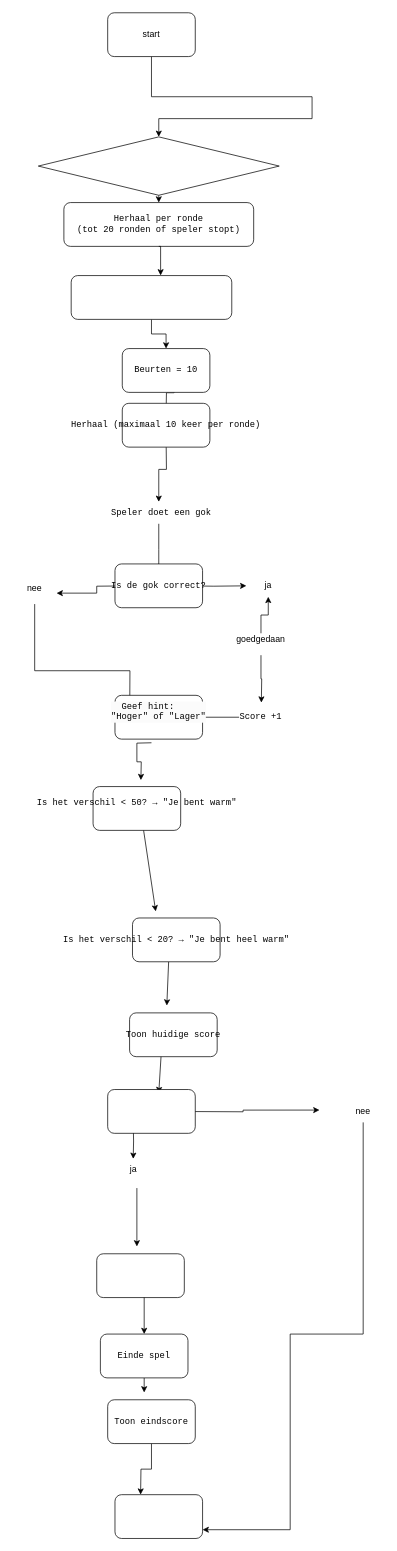
Some shapes in this 397 by 1551 pixel diagram are drawn without their labels. Each missing label, with the centre of its shape:
"Genereer een willekeurig getal tussen 1 en 1000" goes at point 151,297.
"Stel spelparameters in: Max ronden = 20 Score = 0" goes at point 158,165.
"Stop" goes at point 158,1516.
"Volgende ronde" goes at point 140,1275.
"Wil de speler doorgaan?" goes at point 151,1111.
